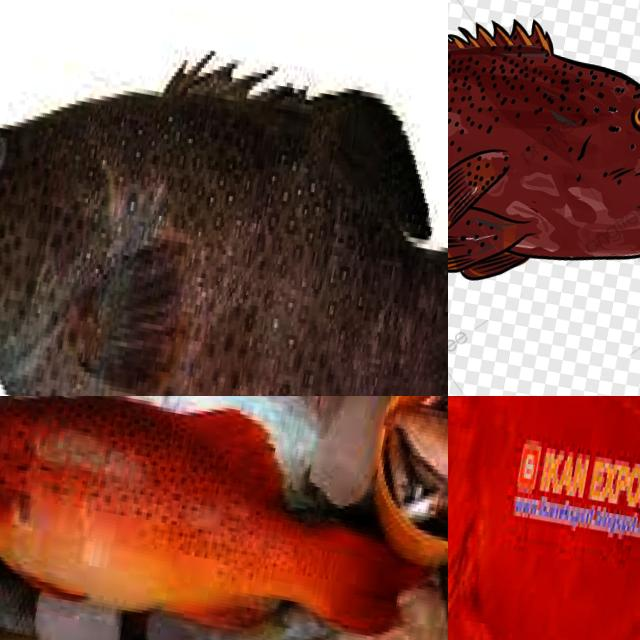Plectropomus-leopardus: (0, 0, 448, 396), (0, 396, 448, 640), (448, 0, 640, 338), (448, 396, 640, 640)
